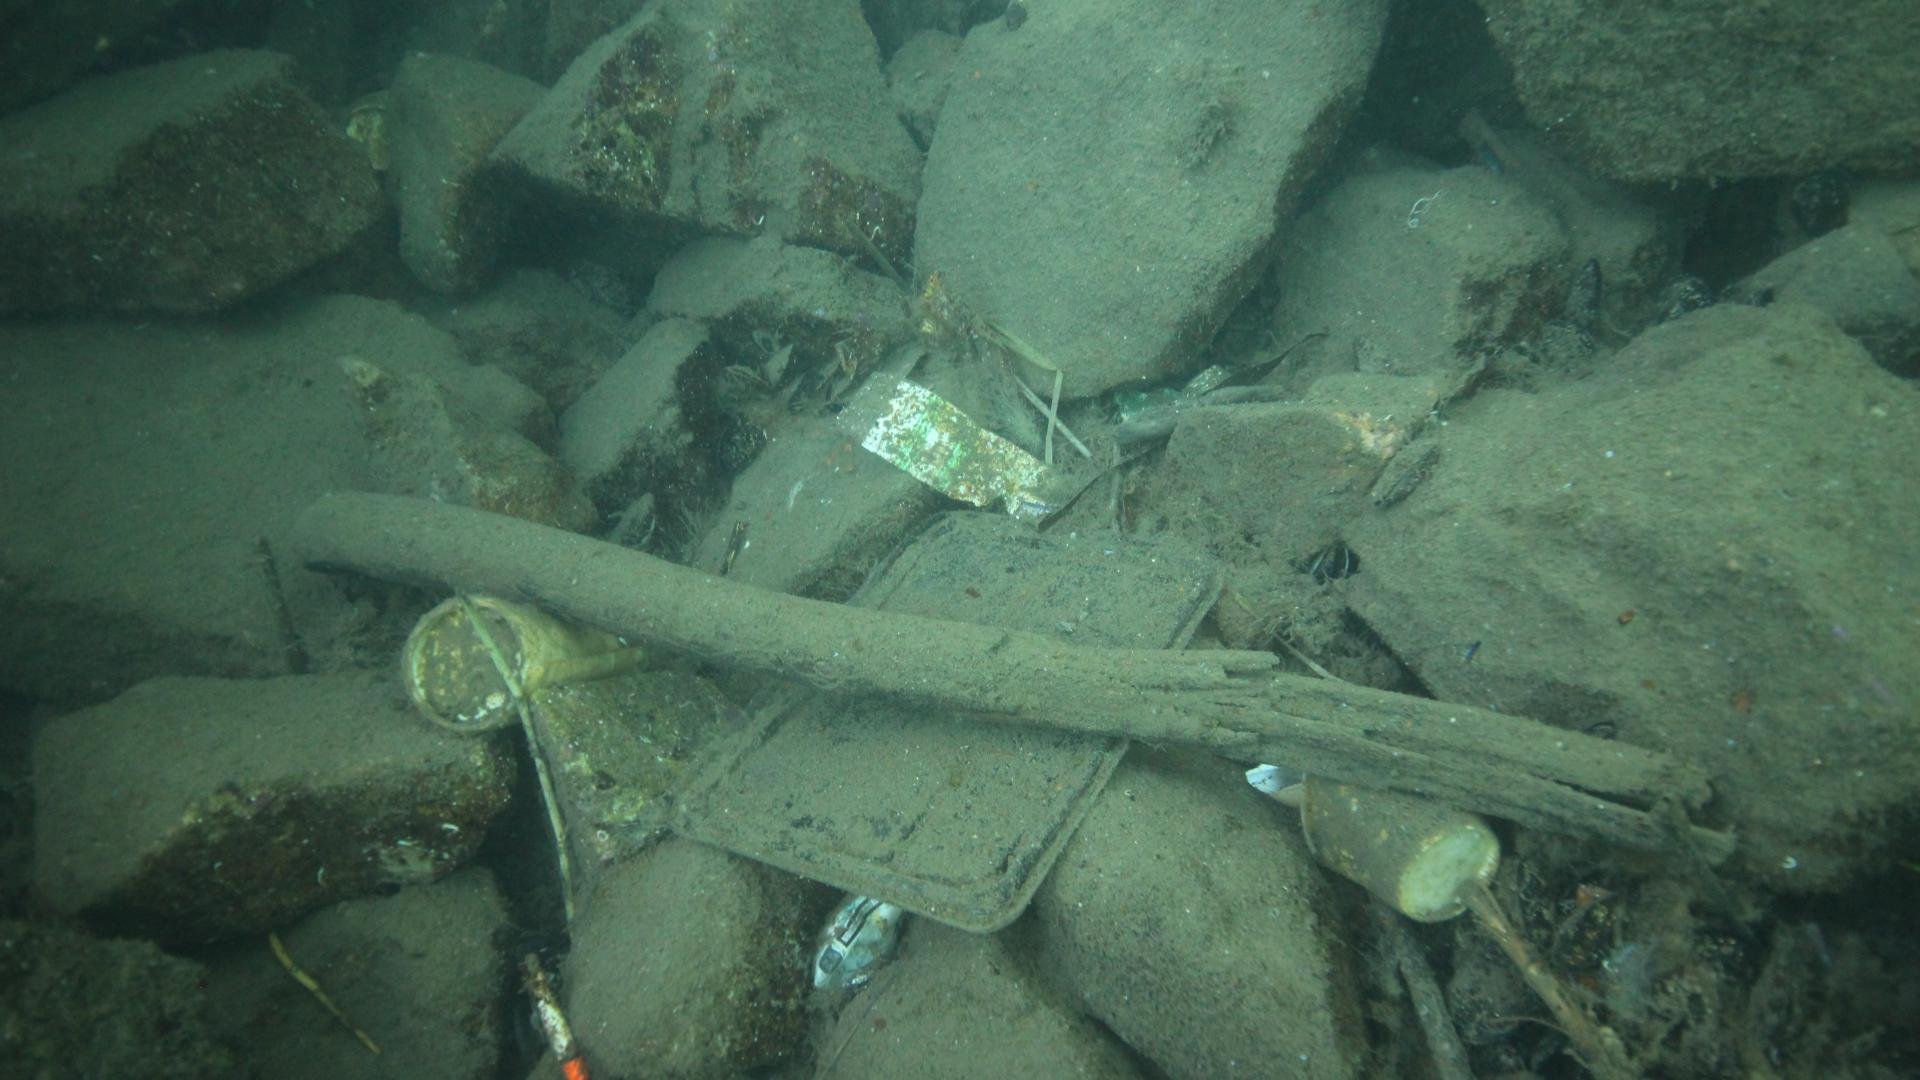wood: (287, 487, 1738, 872)
